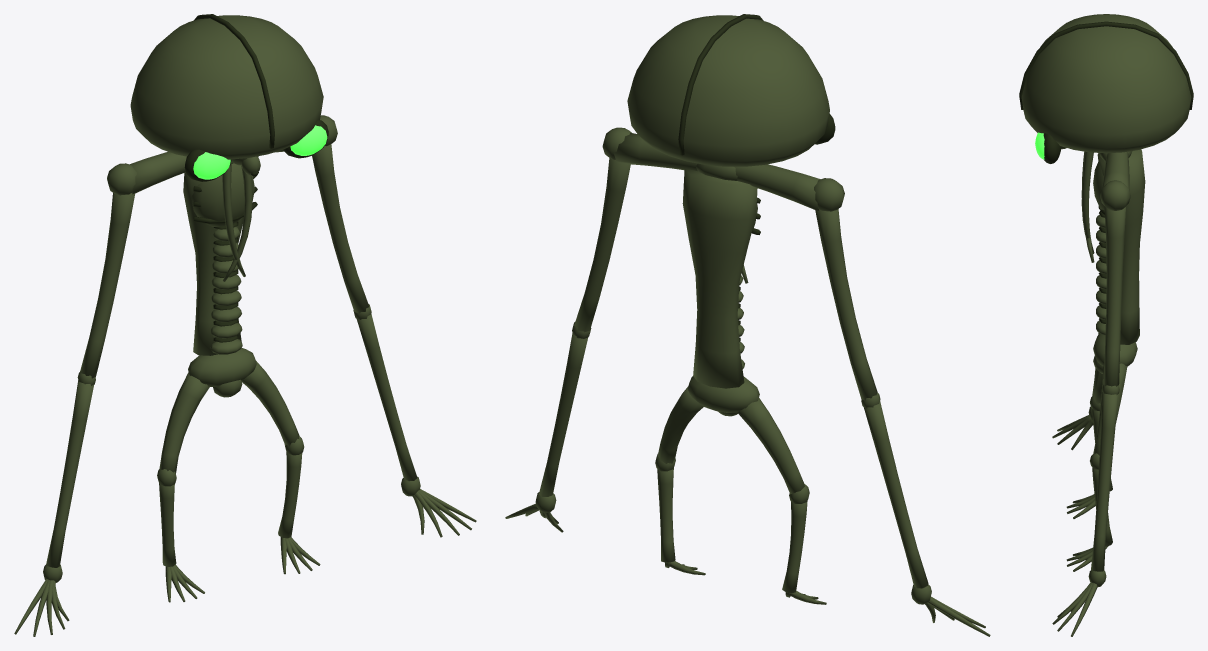
Rendered from bilu.glb.
The picture shows the model from 3 angles, left to right: view 1: azimuth 30°, elevation 25°; view 2: azimuth 150°, elevation 25°; view 3: azimuth 270°, elevation 25°; orthographic projection. The views are drawn at different scales.
Visible parts, largest first — view 1: P_head, P_chest, P_elbowR, P_armR, P_elbowL, P_armL, P_hips, P_kneeL, P_kneeR, P_legR, P_legL; view 2: P_head, P_chest, P_armR, P_elbowR, P_armL, P_elbowL, P_legR, P_kneeR, P_kneeL, P_hips, P_legL; view 3: P_head, P_chest, P_armL, P_elbowL, P_kneeL, P_hips, P_elbowR, P_kneeR, P_legL.
Part boxes in pixels (bbox=[...]): P_head: bbox=[130, 14, 328, 181]; P_chest: bbox=[130, 147, 323, 355]; P_elbowR: bbox=[14, 371, 95, 636]; P_armR: bbox=[80, 163, 136, 378]; P_elbowL: bbox=[353, 304, 476, 537]; P_armL: bbox=[312, 115, 368, 313]; P_hips: bbox=[188, 348, 256, 397]; P_kneeL: bbox=[278, 436, 320, 574]; P_kneeR: bbox=[157, 469, 204, 602]; P_legR: bbox=[159, 372, 209, 473]; P_legL: bbox=[241, 361, 299, 446]; P_head: bbox=[627, 14, 835, 166]; P_chest: bbox=[613, 133, 820, 388]; P_armR: bbox=[814, 178, 877, 400]; P_elbowR: bbox=[861, 392, 990, 636]; P_armL: bbox=[574, 127, 631, 332]; P_elbowL: bbox=[505, 322, 591, 532]; P_legR: bbox=[737, 398, 804, 494]; P_kneeR: bbox=[782, 483, 826, 604]; P_kneeL: bbox=[655, 454, 705, 575]; P_hips: bbox=[687, 376, 759, 416]; P_legL: bbox=[657, 386, 703, 463]; P_head: bbox=[1019, 14, 1193, 163]; P_chest: bbox=[1081, 149, 1145, 344]; P_armL: bbox=[1100, 180, 1130, 386]; P_elbowL: bbox=[1052, 385, 1119, 636]; P_kneeL: bbox=[1066, 453, 1112, 571]; P_hips: bbox=[1093, 334, 1137, 373]; P_elbowR: bbox=[1052, 332, 1099, 450]; P_kneeR: bbox=[1066, 395, 1112, 518]; P_legL: bbox=[1093, 363, 1127, 455].
Bounding box in the file's own units: 2.25 × 2.55 × 0.783.
